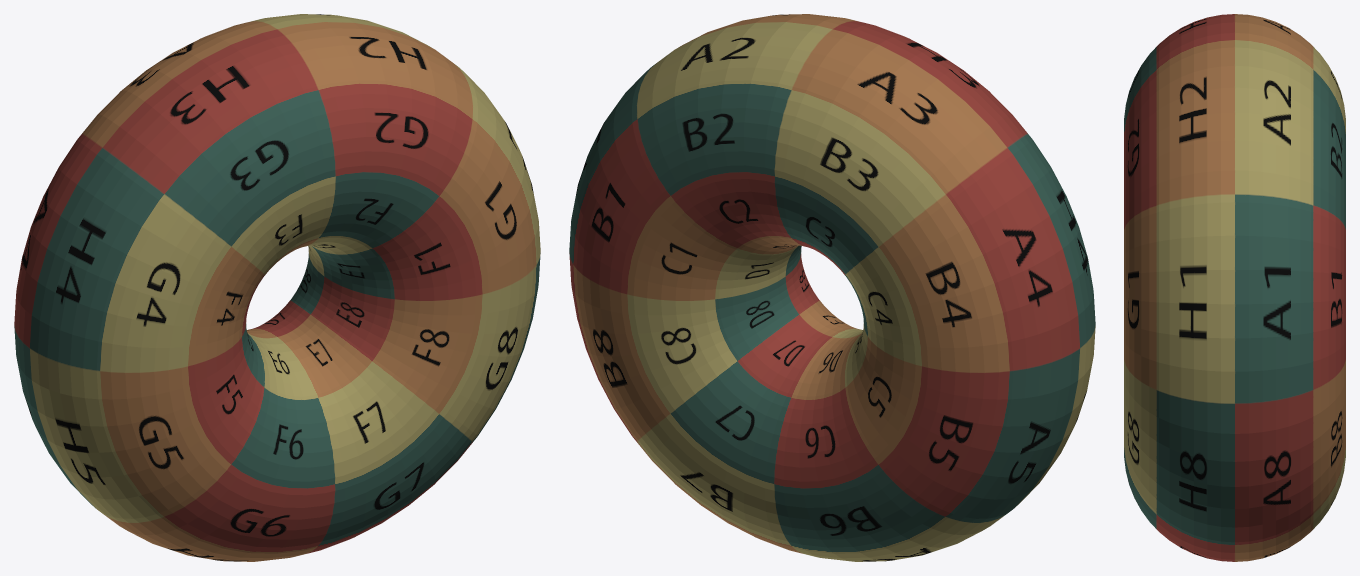
The model's file is texture_torus_R7_r30.glb.
3 views of the same model, side by side, from view 1: azimuth 30°, elevation 25°; view 2: azimuth 150°, elevation 25°; view 3: azimuth 270°, elevation 25° (orthographic). The views are drawn at different scales.
Visible parts, largest first — view 1: world; view 2: world; view 3: world.
Part boxes in pixels (<box>): world: <box>14,14,540,561</box>; world: <box>569,14,1095,561</box>; world: <box>1124,14,1345,561</box>.
Bounding box in the file's own units: 24.67 × 24.62 × 9.98.
1 material, 1 textured.
